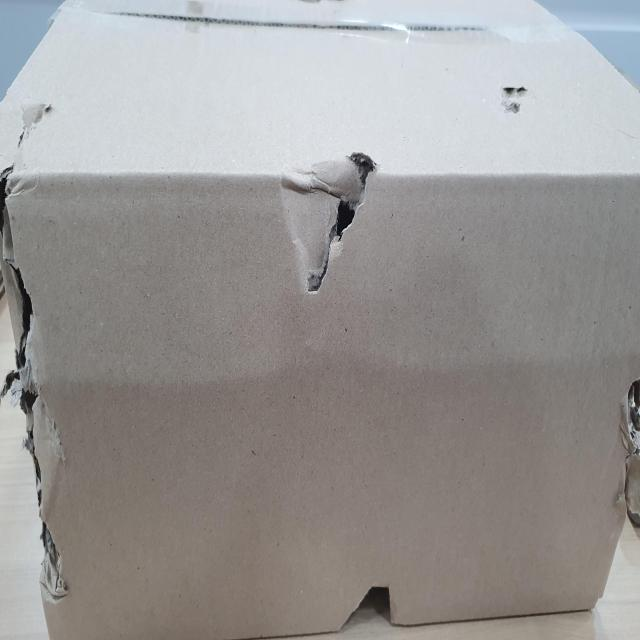damaged: (2, 181, 62, 575), (288, 146, 375, 298), (322, 564, 404, 638)
